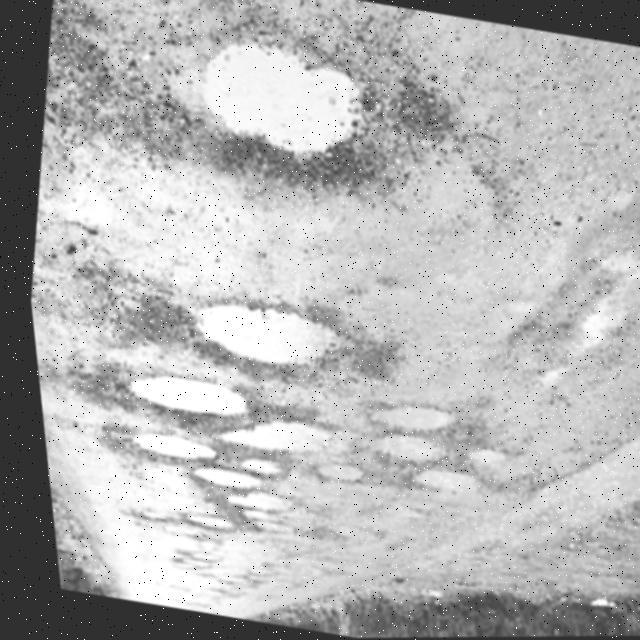Pothole: (176, 22, 382, 174), (173, 284, 338, 385), (113, 358, 244, 428), (207, 409, 323, 468), (104, 423, 208, 470), (359, 393, 444, 441), (362, 429, 441, 474), (397, 462, 467, 500), (179, 463, 248, 493), (216, 487, 277, 515), (359, 497, 407, 532), (312, 518, 360, 549), (303, 458, 352, 487), (225, 453, 274, 481), (175, 507, 222, 534), (454, 444, 495, 472), (233, 517, 283, 539), (119, 502, 159, 526), (636, 175, 640, 249)
